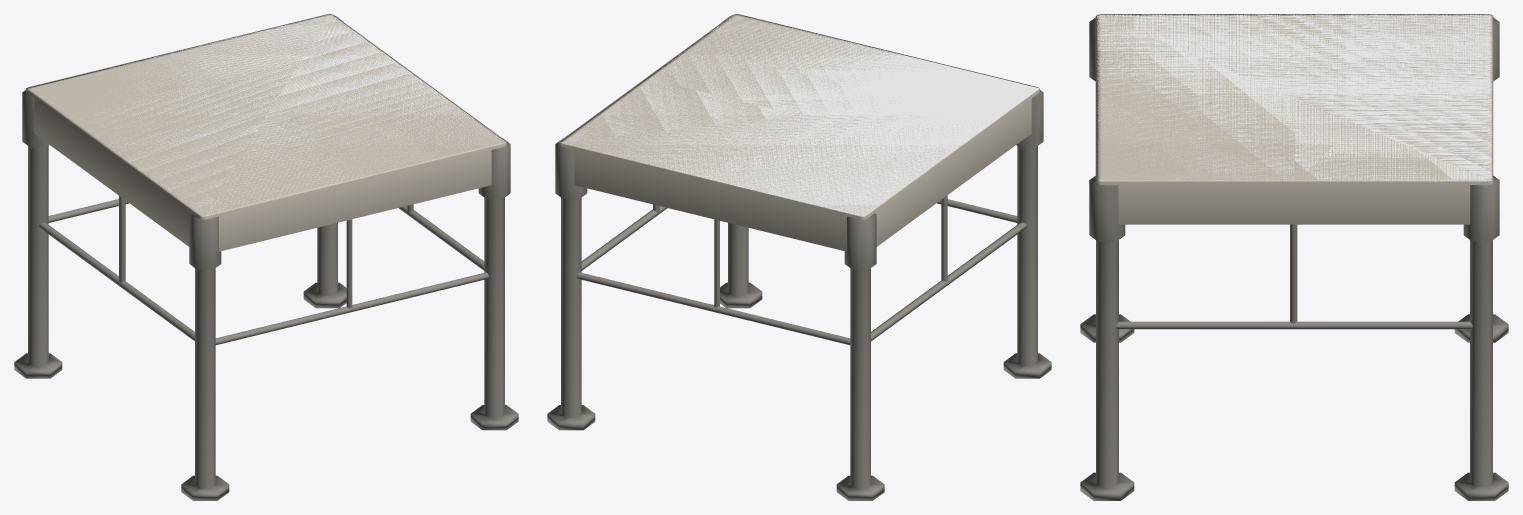
Rendered from objects_un_base_ministage02.gltf.
The picture shows the model from 3 angles, left to right: view 1: azimuth 30°, elevation 25°; view 2: azimuth 150°, elevation 25°; view 3: azimuth 270°, elevation 25°; orthographic projection. The views are drawn at different scales.
Visible parts, largest first — view 1: um_objects_un_base_ministage02_model_lod0Shape:objects_un_ba (×3); view 2: um_objects_un_base_ministage02_model_lod0Shape:objects_un_ba (×3); view 3: um_objects_un_base_ministage02_model_lod0Shape:objects_un_ba (×3).
Part boxes in pixels (x1=…): um_objects_un_base_ministage02_model_lod0Shape:objects_un_ba (×3): x1=14, y1=14, x2=518, y2=500; um_objects_un_base_ministage02_model_lod0Shape:objects_un_ba (×3): x1=547, y1=14, x2=1051, y2=500; um_objects_un_base_ministage02_model_lod0Shape:objects_un_ba (×3): x1=1080, y1=14, x2=1508, y2=500.
Bounding box in the file's own units: 3.04 × 2.5 × 3.09.
3 materials, 2 textured.
